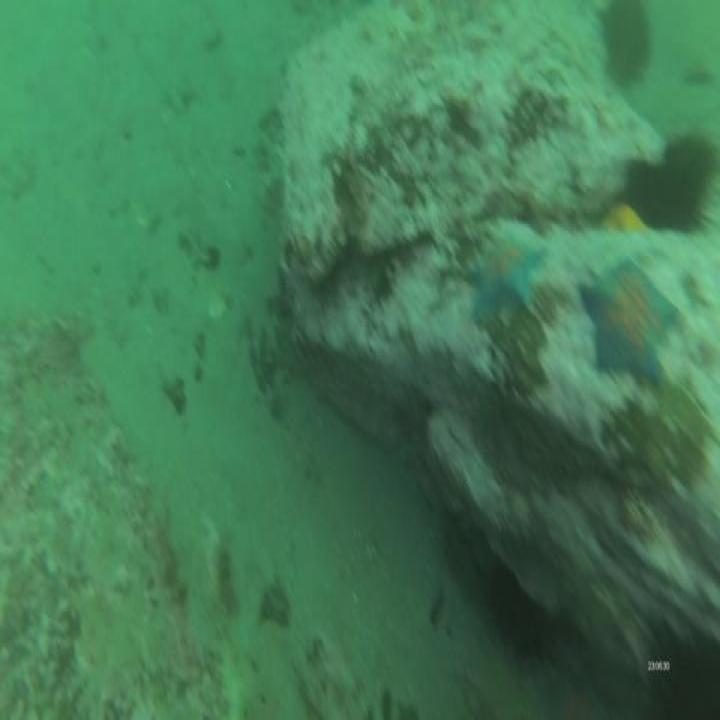echinus: (630, 146, 717, 238), (600, 2, 656, 89)
starfish: (577, 247, 681, 388), (459, 222, 550, 329)
